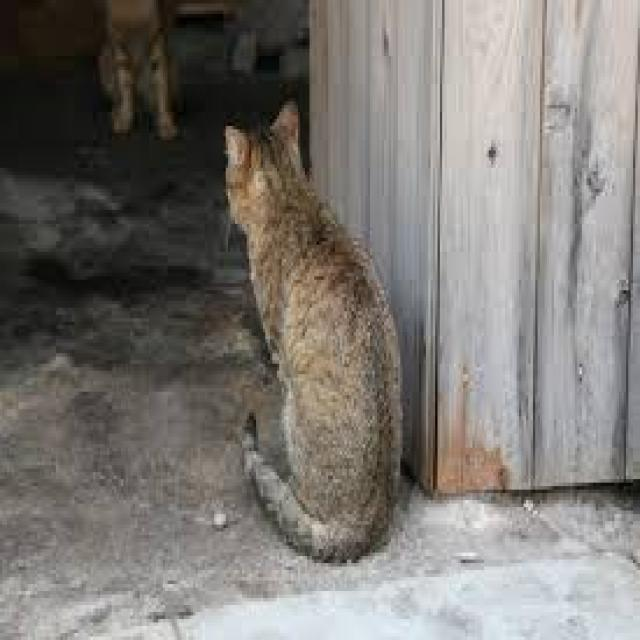cat: (226, 103, 396, 560)
